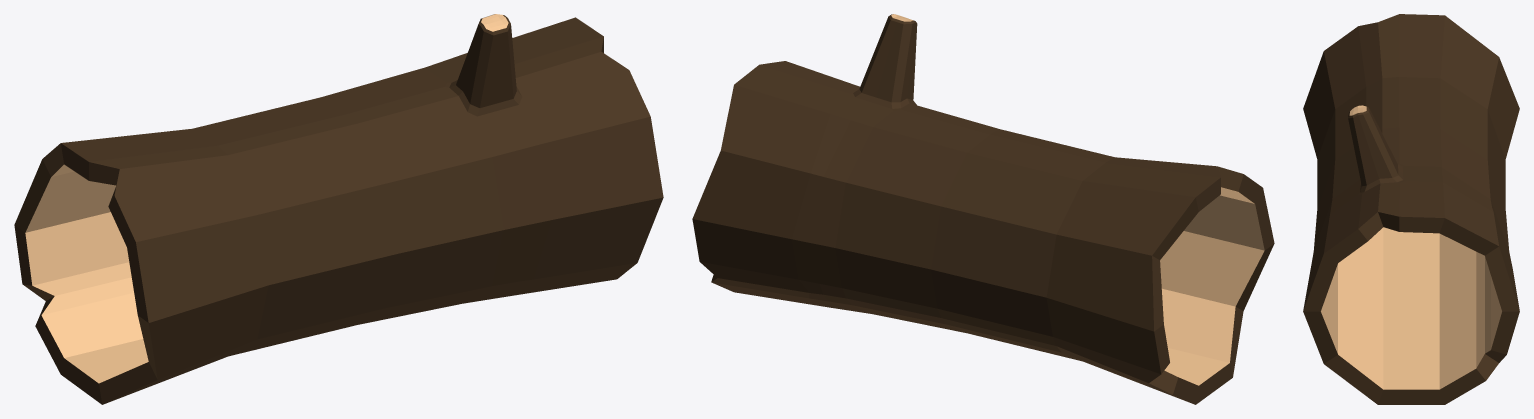
Rendered from Hollow Log 1.fbx.
3 renders of one model, left to right at view 1: azimuth 30°, elevation 25°; view 2: azimuth 150°, elevation 25°; view 3: azimuth 270°, elevation 25°, orthographic. The views are drawn at different scales.
Visible parts, largest first — view 1: Tree Hollow; view 2: Tree Hollow; view 3: Tree Hollow.
Part boxes in pixels (x1=…): Tree Hollow: x1=14, y1=14, x2=663, y2=404; Tree Hollow: x1=692, y1=14, x2=1274, y2=404; Tree Hollow: x1=1303, y1=14, x2=1519, y2=404.
Bounding box in the file's own units: 55.7 × 31.2 × 25.17.
